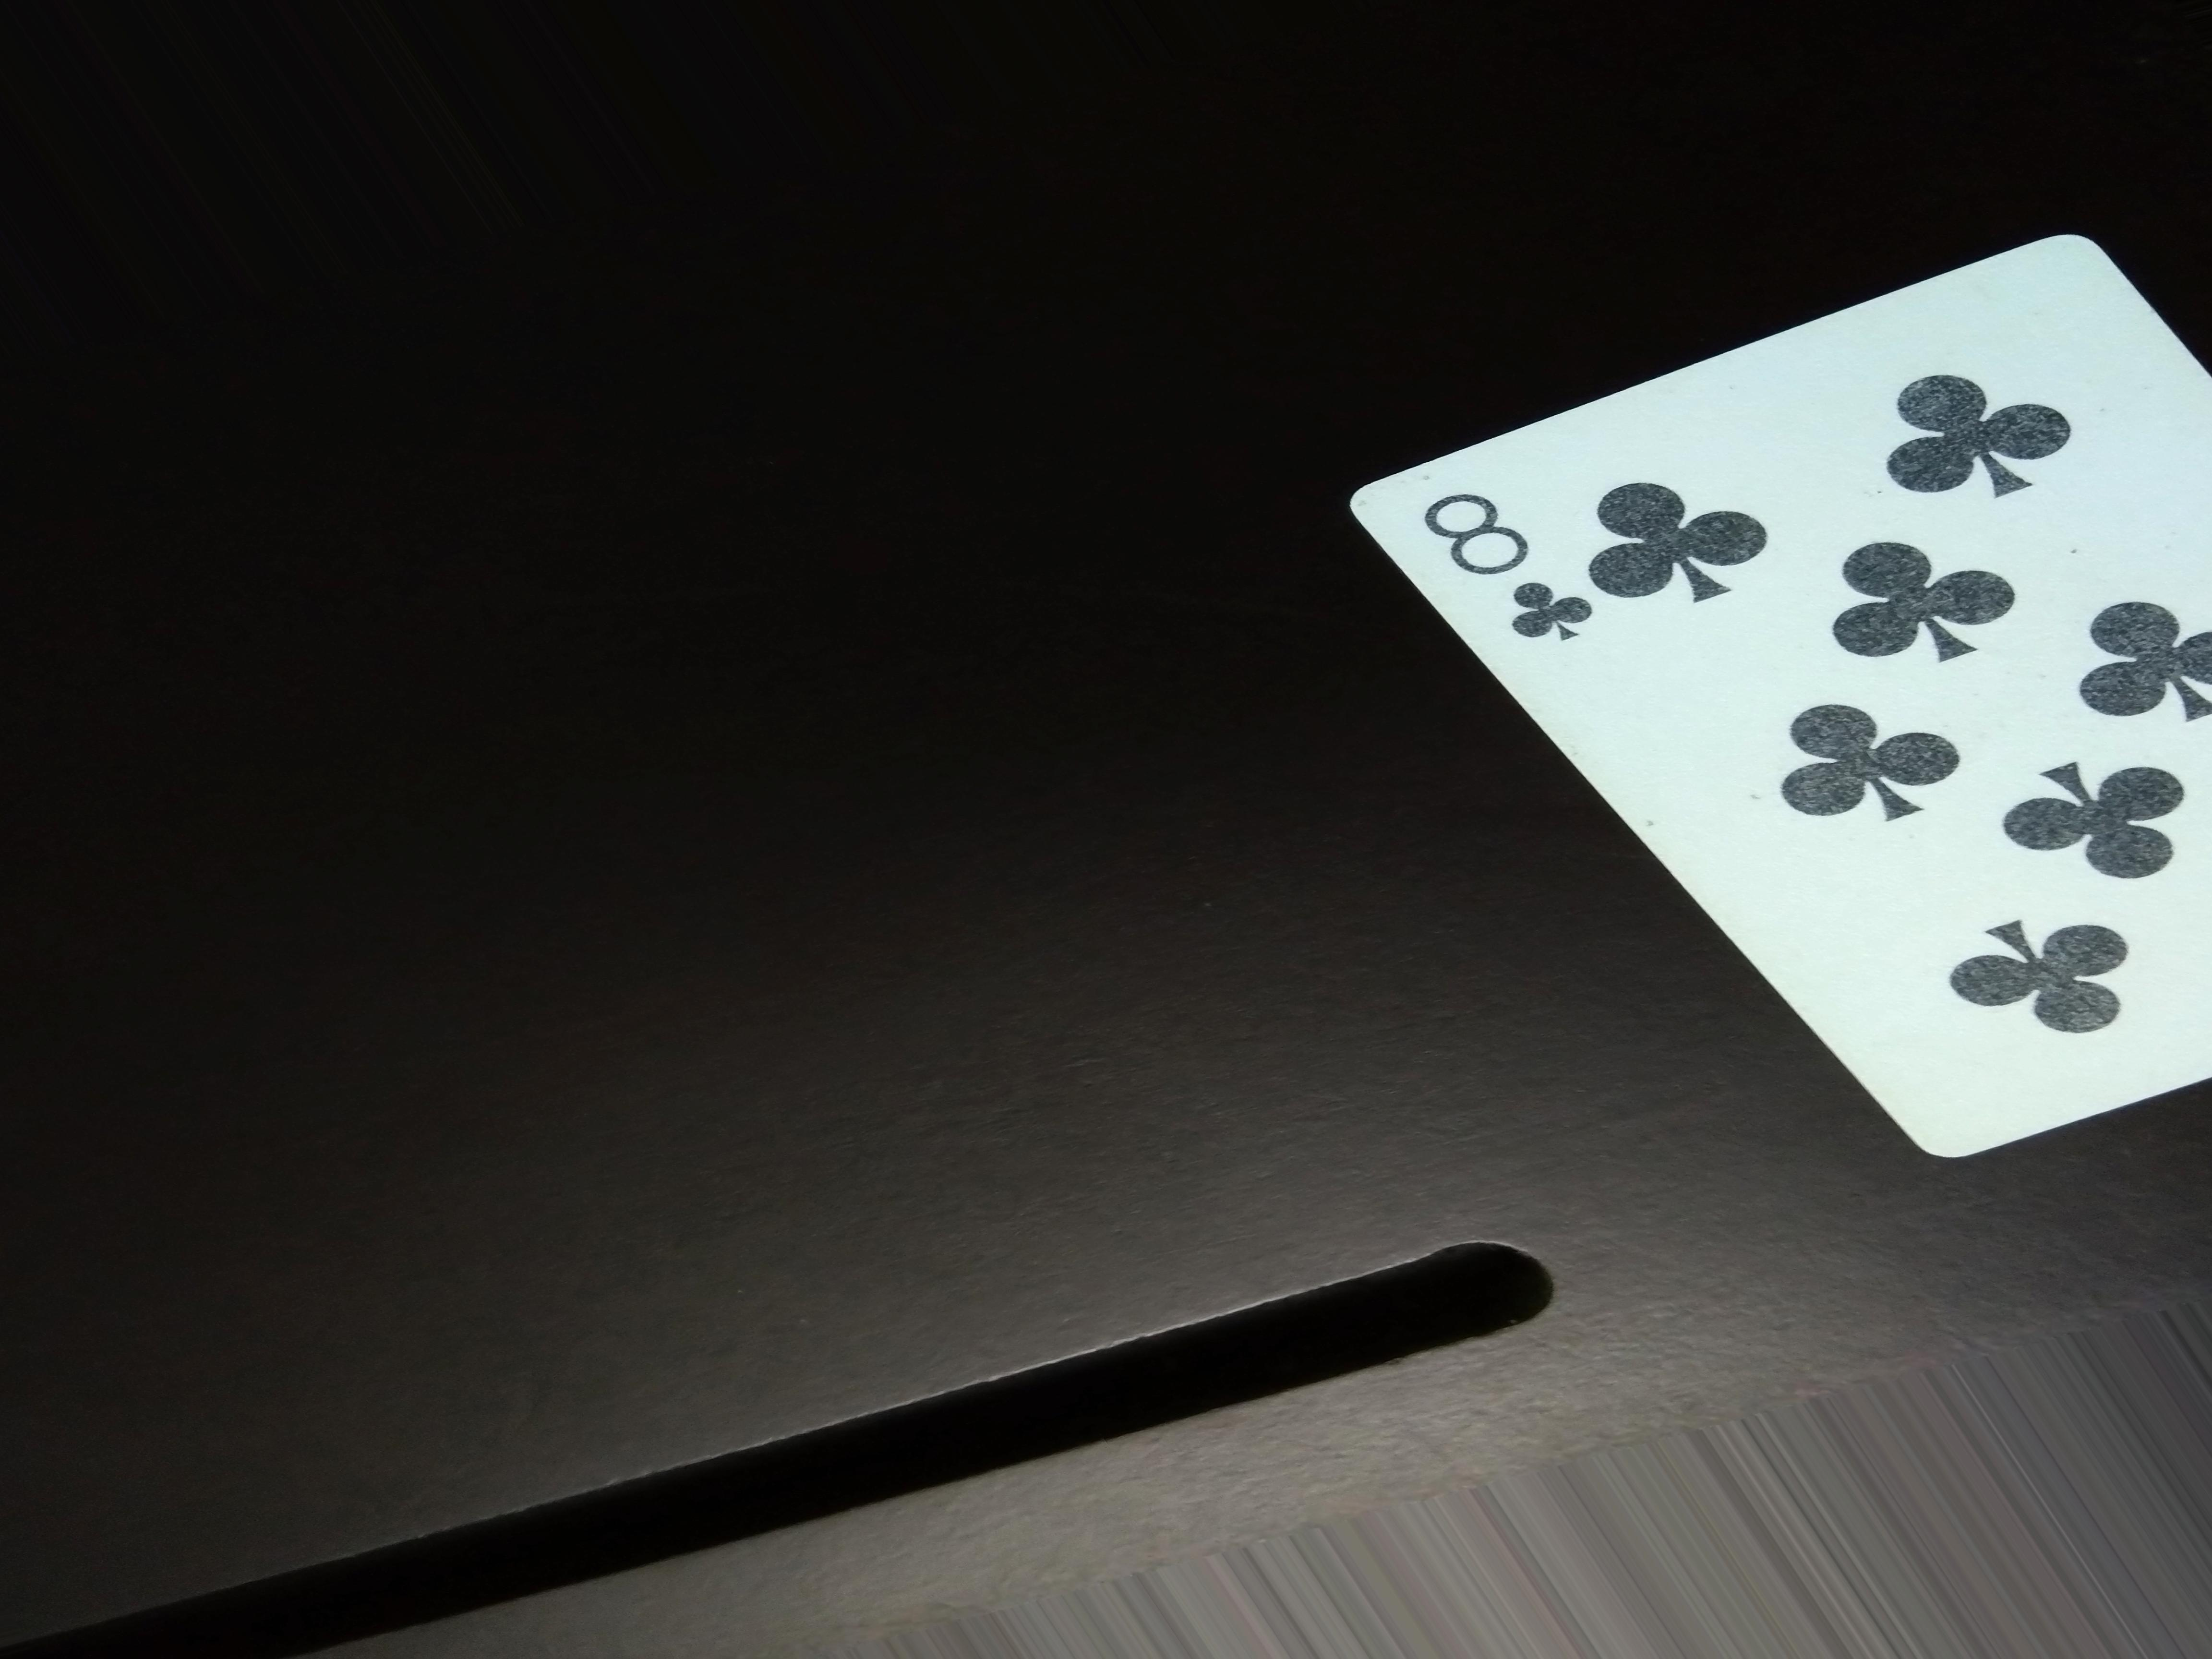8C: (1397, 469, 1592, 667)
